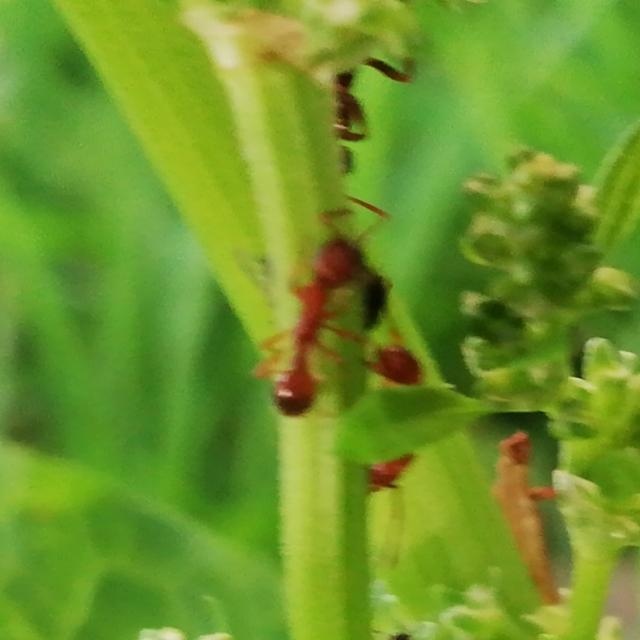Myrmica: (240, 205, 380, 427), (354, 316, 430, 518), (308, 44, 394, 168)
